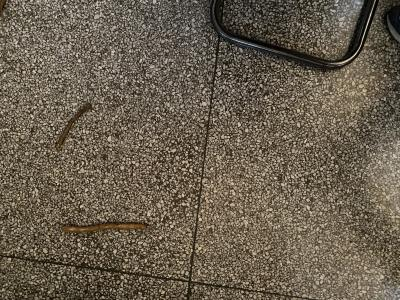Root: (55, 104, 91, 149), (62, 222, 147, 233)
